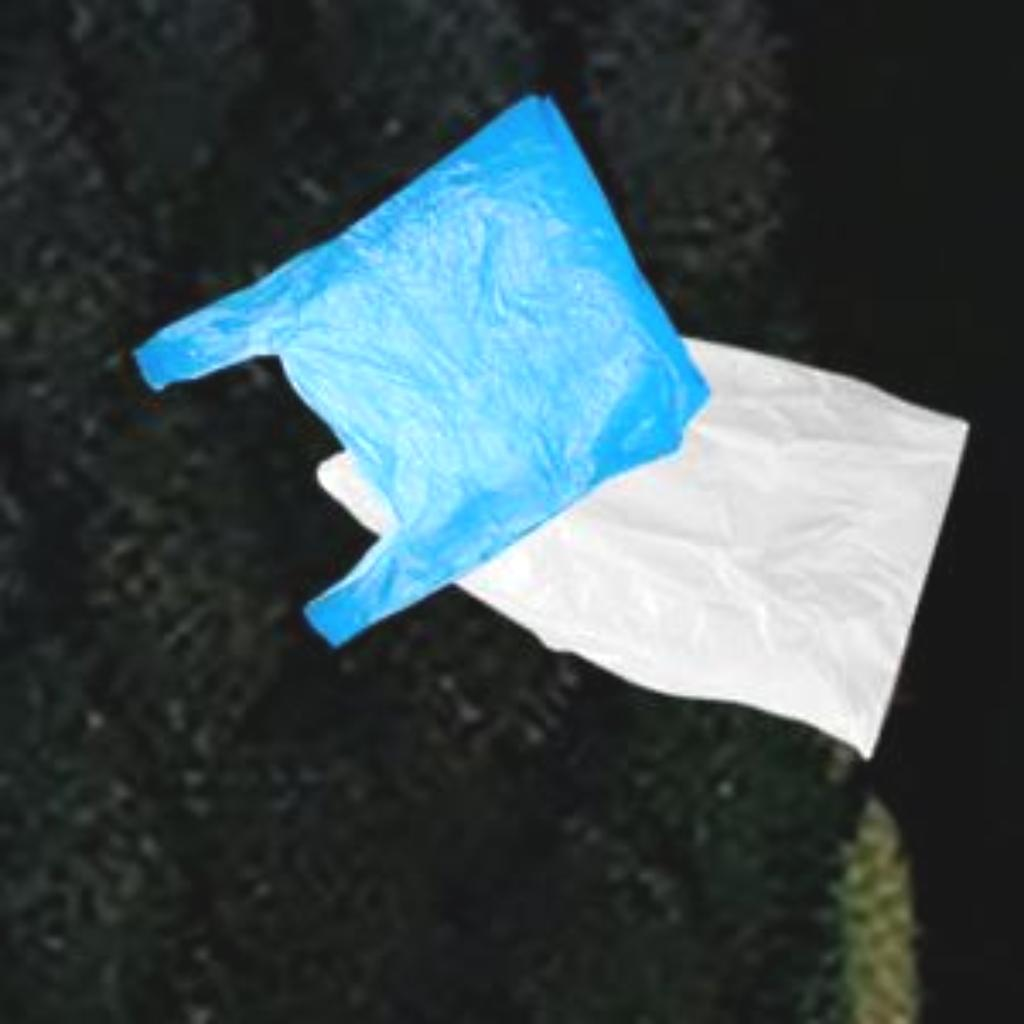garbage: (138, 82, 715, 662), (346, 282, 995, 742)
